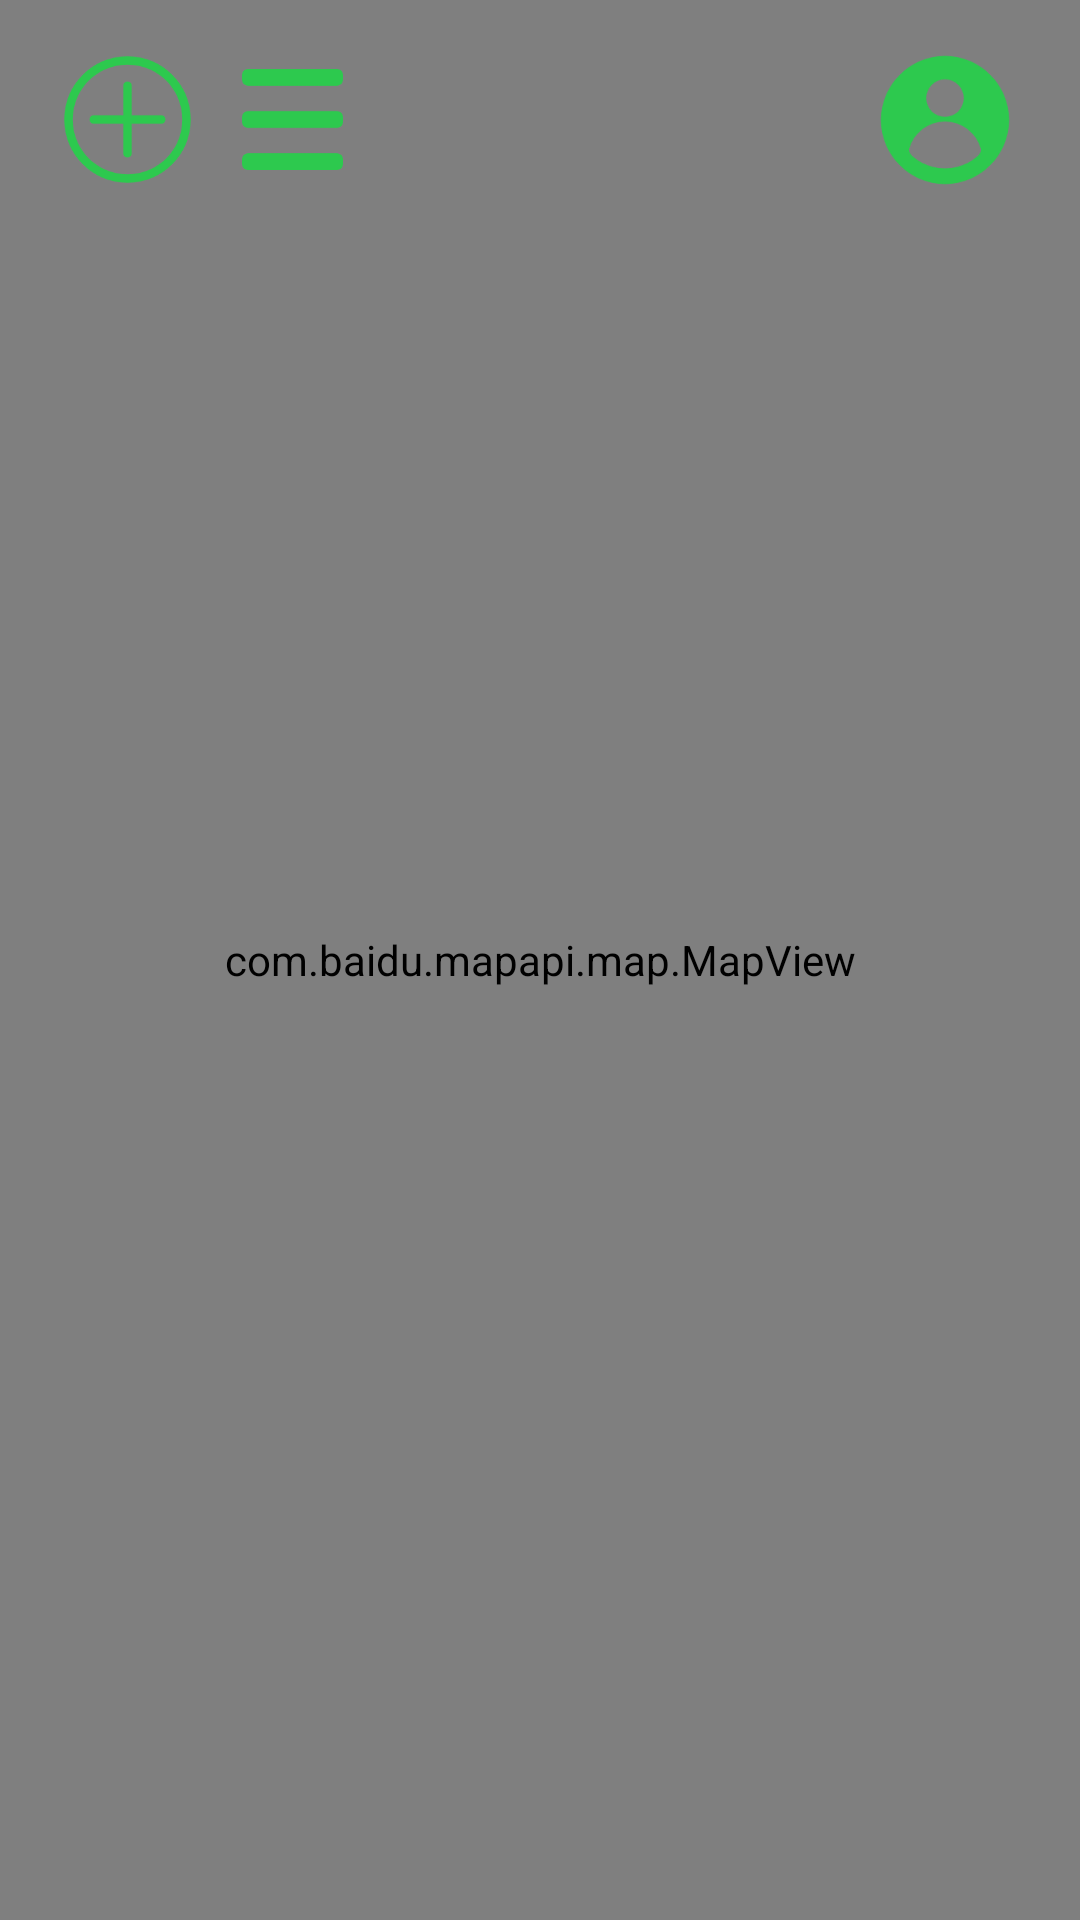

Screen size 1080w x 1920h. Icon name, then its box in pixels as {"left": x1, "top": y1, "right": x2, "bottom": y2}:
add: {"left": 64, "top": 56, "right": 191, "bottom": 183}
list: {"left": 242, "top": 69, "right": 343, "bottom": 170}
user: {"left": 881, "top": 56, "right": 1009, "bottom": 184}
